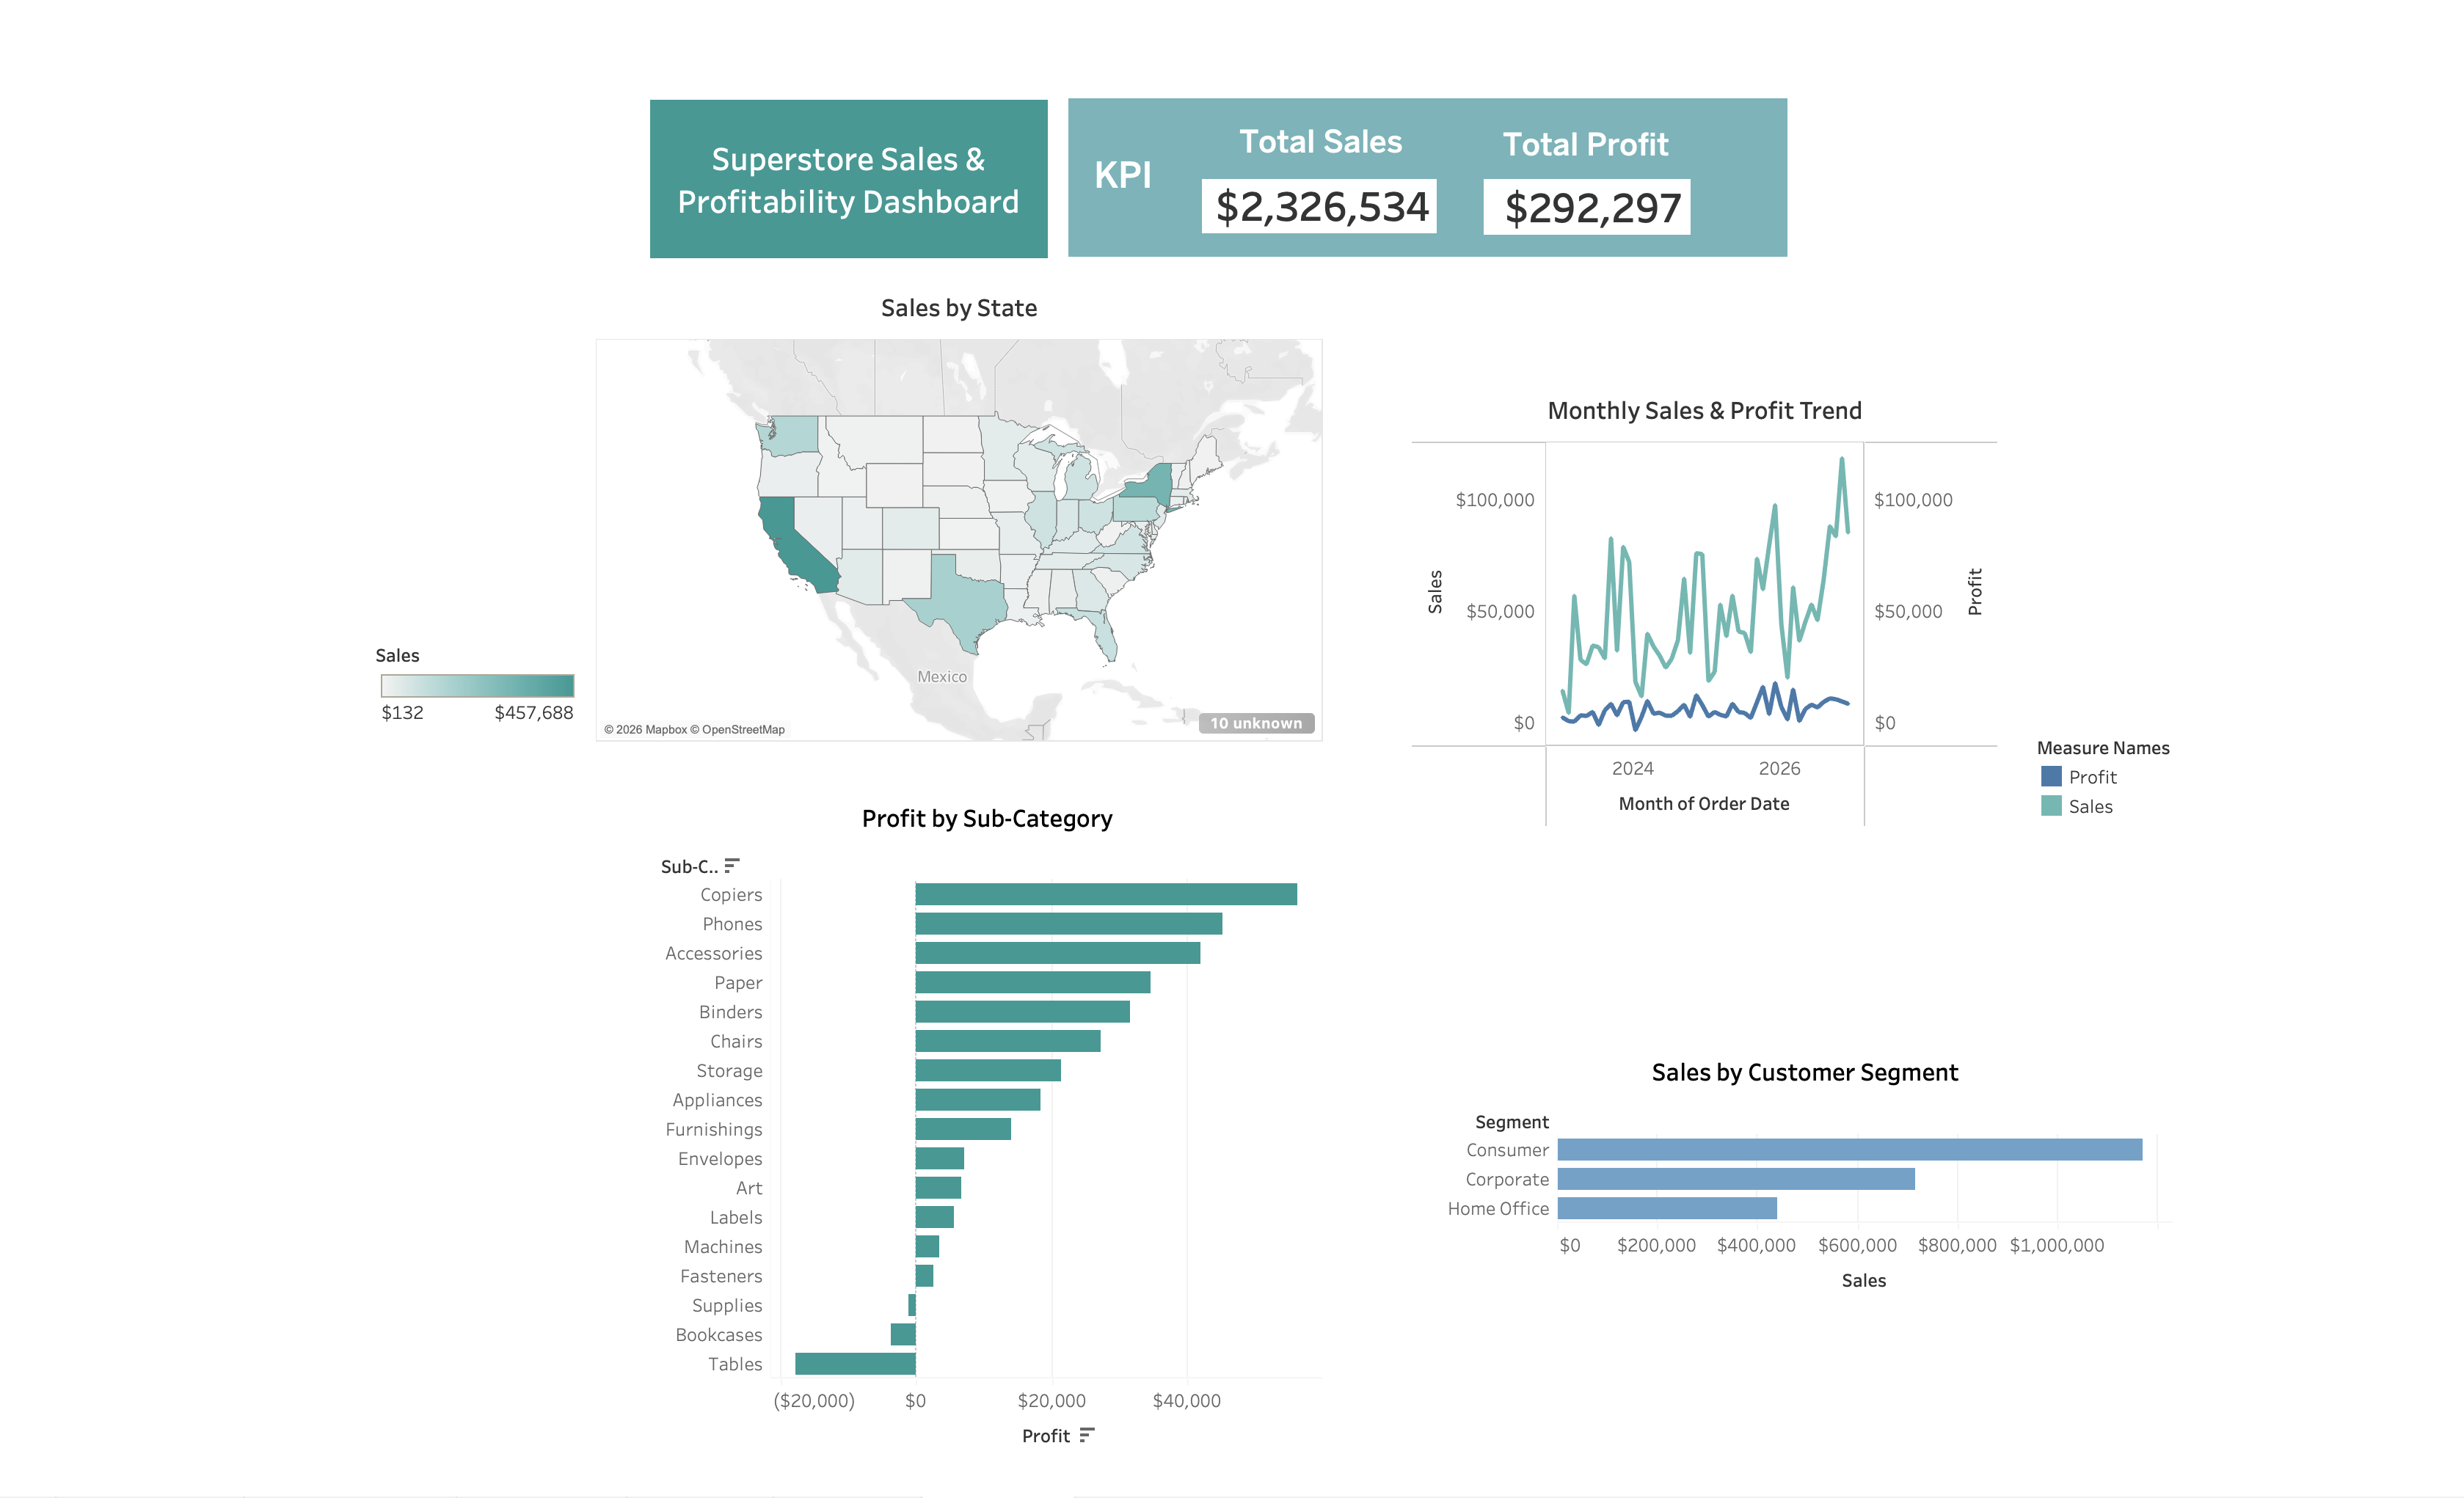

The page's visual inventory and layout, read from the dashboard file:
{"tool":"tableau","page":{"name":"Dashboard 1","canvas":[1200,900],"ordinal":0},"visuals":[{"type":"text","box":[633,14,114,24]},{"type":"text","box":[797,15,128,25]},{"type":"text","box":[510,37,44,30]},{"type":"worksheet","title":"Total Sales KPI","mark":"Text","box":[612,53,160,38]},{"type":"worksheet","title":"Total Profit KPI","mark":"Text","box":[793,53,141,37]},{"type":"worksheet","title":"Map","mark":"Automatic","box":[111,120,496,312]},{"type":"worksheet","title":"Sales & Profit Trend","mark":"Automatic","rows":["Sales","Profit"],"cols":["Order Date"],"box":[656,123,400,300]},{"type":"legend","title":"Map","param":"[federated.10nnk8d1vgmw8q17yu76u06pnbcj].[sum:Sales:qk]","box":[8,157,98,66]},{"type":"legend","title":"Sales & Profit Trend","param":"[federated.10nnk8d1vgmw8q17yu76u06pnbcj].[:Measure Names]","box":[1067,373,92,58]},{"type":"worksheet","title":"Sales by Segment","mark":"Bar","rows":["Segment"],"cols":["Sales"],"box":[640,604,522,183]}]}

Visuals, with their boxes on the page's 1200x900 design canvas (x1, y1, x2, y2). These are canvas units, not pixel positions in the 2464x1498 screenshot, which may show the page scaled, cropped or inside an application window:
text: locate(633, 14, 747, 38)
text: locate(797, 15, 925, 40)
text: locate(510, 37, 554, 67)
"Total Sales KPI" worksheet (Text marks): locate(612, 53, 772, 91)
"Total Profit KPI" worksheet (Text marks): locate(793, 53, 934, 90)
"Map" worksheet: locate(111, 120, 607, 432)
"Sales & Profit Trend" worksheet: locate(656, 123, 1056, 423)
"Map" legend: locate(8, 157, 106, 223)
"Sales & Profit Trend" legend: locate(1067, 373, 1159, 431)
"Sales by Segment" worksheet (Bar marks): locate(640, 604, 1162, 787)
